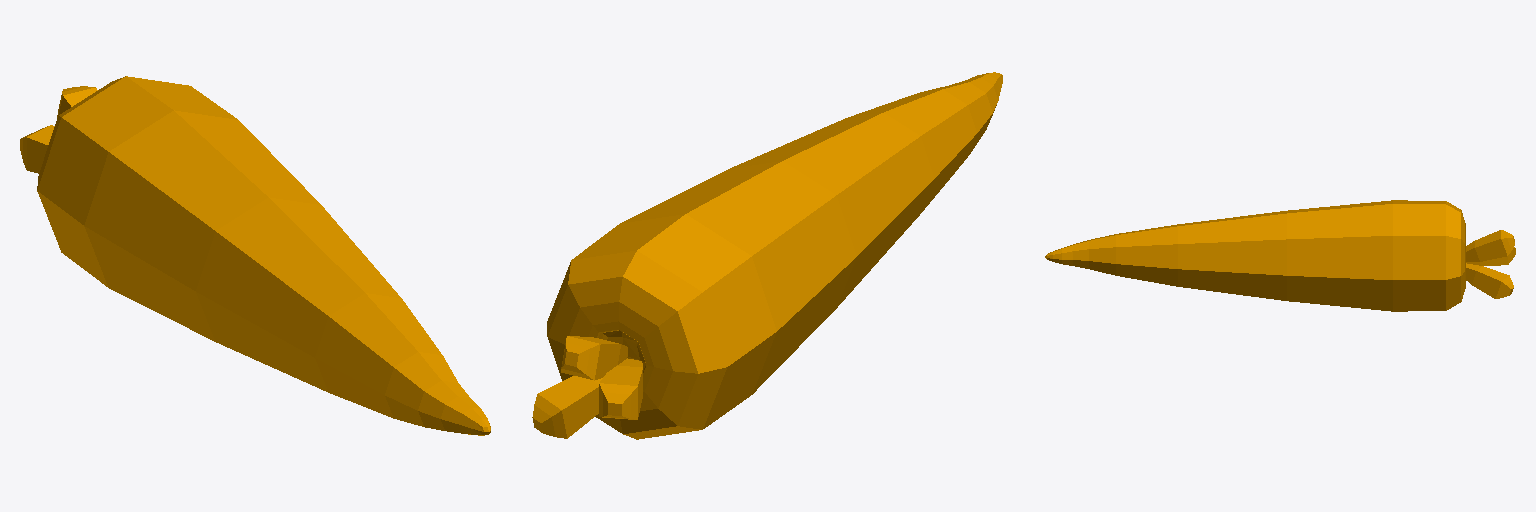
The robot description file, URDF, robot "carrot":
<?xml version="0.0" ?>
<robot name="carrot">
  <link name="baseLink">
    <contact>
      <lateral_friction value="1.0"/>
      <rolling_friction value="0.0"/>
      <contact_cfm value="0.0"/>
      <contact_erp value="1.0"/>
    </contact>
    <inertial>
      <origin rpy="0 0 0" xyz="0.0 0.0 0.03"/>
       <mass value=".1"/>
       <inertia ixx="1" ixy="0" ixz="0" iyy="1" iyz="0" izz="1"/>
    </inertial>
    <visual>
      <origin rpy="0 0 0" xyz="0 0 0.03"/>
      <geometry>
        <mesh filename="meshes/carrot/carrot.obj" scale="0.03 0.03 0.03" />
      </geometry>

    </visual>
    <collision>
      <origin rpy="0 0 0" xyz="0 0 0.03"/>
      <geometry>
	 	<mesh filename="meshes/carrot/carrot.obj" scale="0.03 0.03 0.03"/>
      </geometry>
    </collision>
  </link>
</robot>

--- What the picture shows (computed from the rendered views, not written in the file) ---
Views: 3 orthographic renders of the robot side by side, from view 1: azimuth 30°, elevation 25°; view 2: azimuth 150°, elevation 25°; view 3: azimuth 270°, elevation 25°.
Robot: carrot — 1 links, 0 joints (none); root link baseLink; default pose: every joint at zero.
Visible links, largest first — view 1: baseLink; view 2: baseLink; view 3: baseLink.
Boxes of the visible links, <box> form: baseLink: <box>20,76,490,435</box>; baseLink: <box>532,72,1002,439</box>; baseLink: <box>1045,200,1515,311</box>.
Size in the robot's own frame: 0.0476 by 0.1945 by 0.0476 metres.
Meshes: 1 distinct files referenced, 1 mesh visuals loaded (1 OBJ).